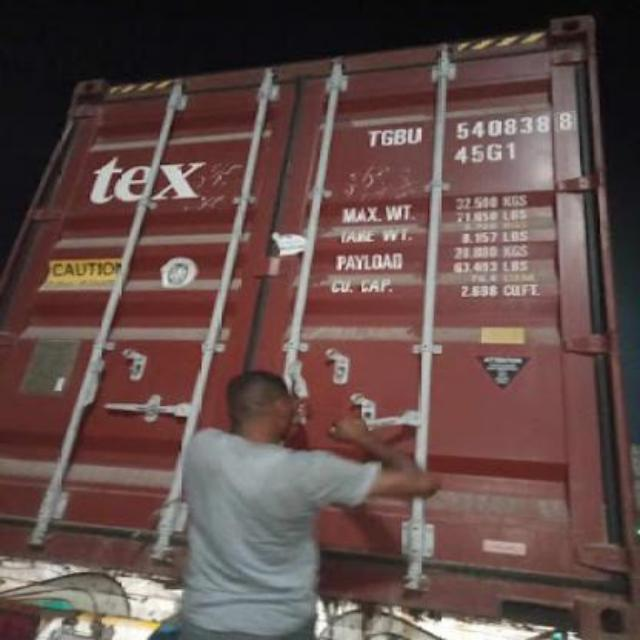0: (486, 115, 502, 142)
3: (518, 114, 534, 136)
4: (470, 115, 486, 139)
5: (452, 117, 468, 141)
8: (534, 113, 554, 137), (558, 111, 578, 131), (504, 113, 516, 137)
B: (394, 124, 406, 154)
G: (376, 124, 394, 146)
T: (362, 123, 380, 153)
U: (406, 122, 422, 148)
